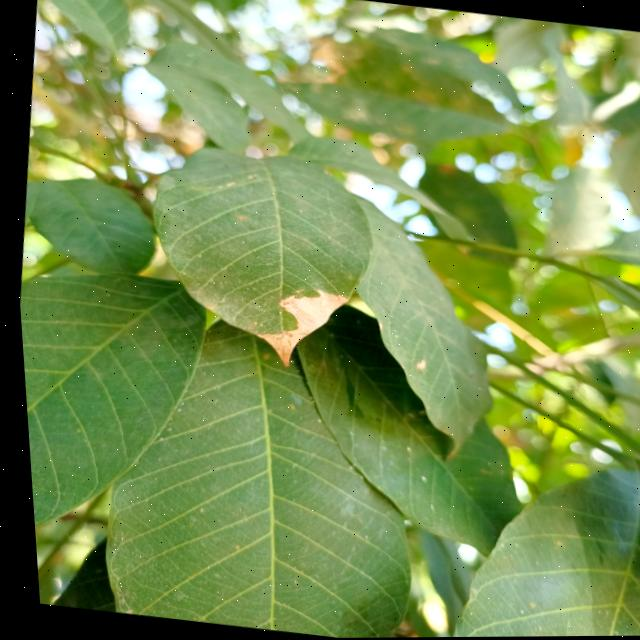Leaf-Blight: (245, 281, 349, 374), (410, 360, 422, 372)
